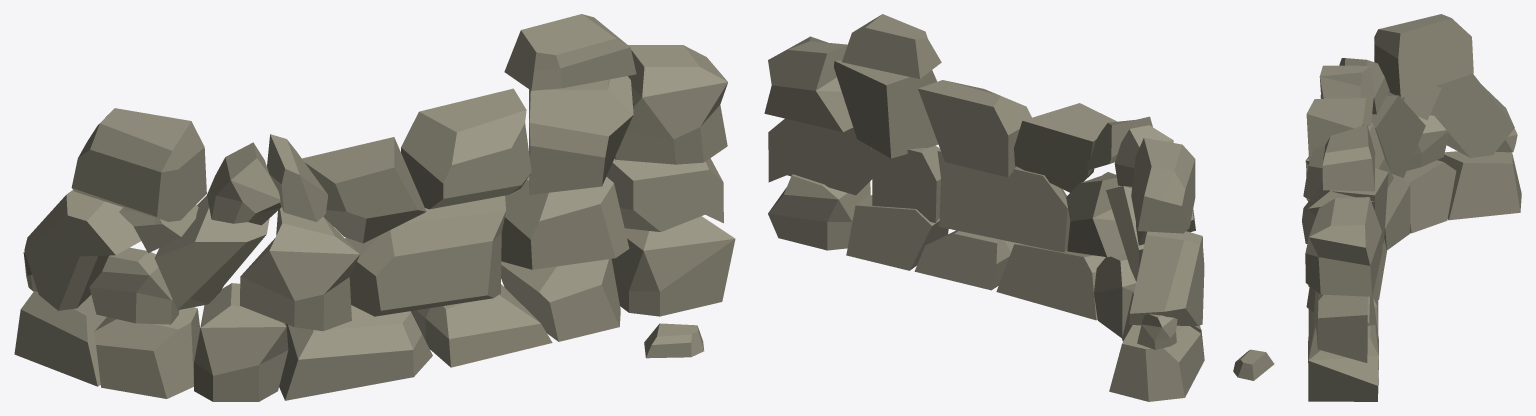
File: wall02.fbx
The picture shows the model from 3 angles, left to right: view 1: azimuth 30°, elevation 25°; view 2: azimuth 150°, elevation 25°; view 3: azimuth 270°, elevation 25°; orthographic projection. The views are drawn at different scales.
Visible parts, largest first — view 1: wall02, wall03_small; view 2: wall02; view 3: wall02, wall03_small.
Boxes of the visible parts, box(x1,y1,x2,y2) form: wall02: box(14, 14, 735, 401); wall03_small: box(644, 323, 704, 358); wall02: box(764, 14, 1204, 401); wall02: box(1302, 14, 1521, 401); wall03_small: box(1233, 349, 1274, 380).
Size of the model in its own units: 7.7 by 3.44 by 4.14.
